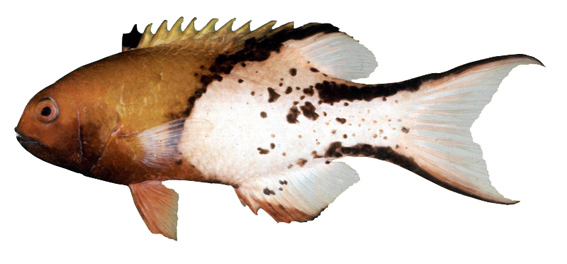fish: (16, 17, 546, 242)
